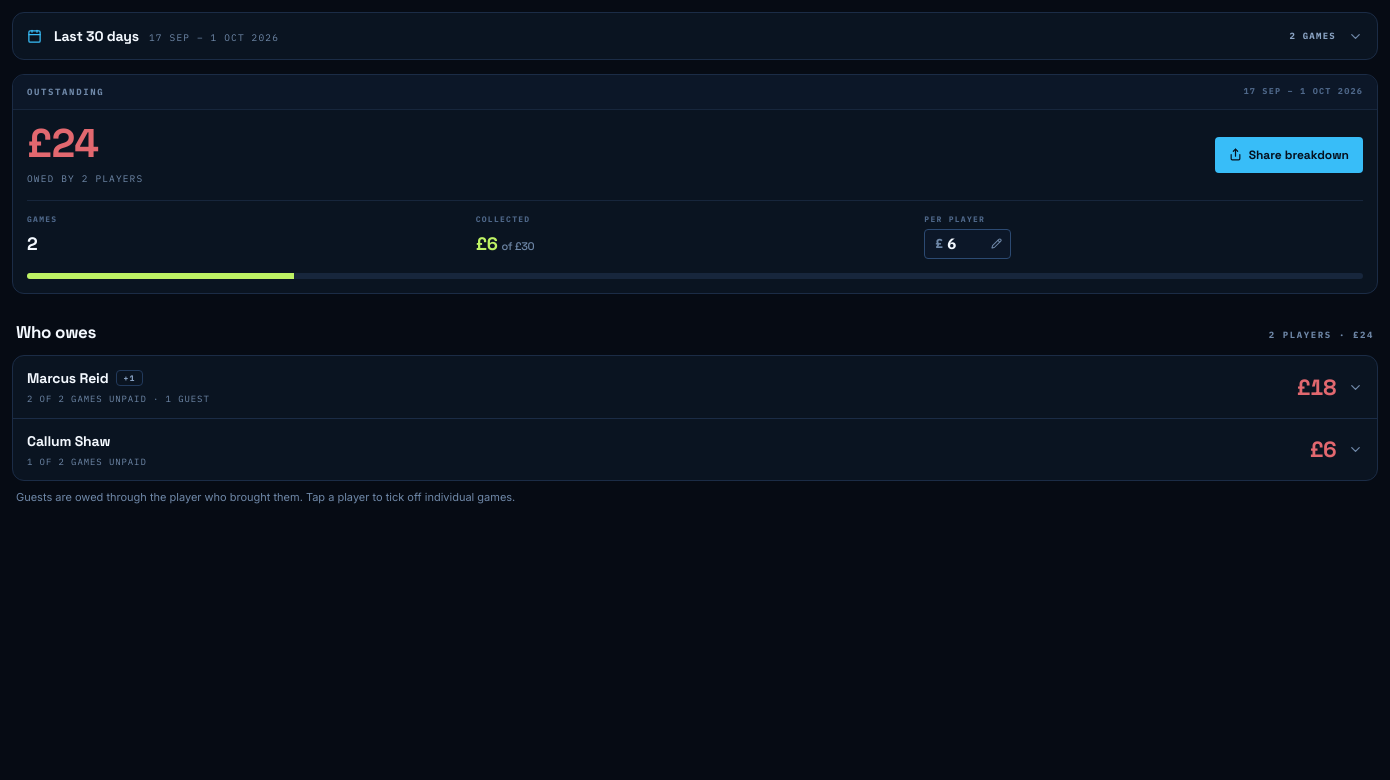
Test case: AdminMoneyView › reverts a failed save and says so
Click the text "Callum Shaw" at (69, 441), box [27, 431, 110, 451]
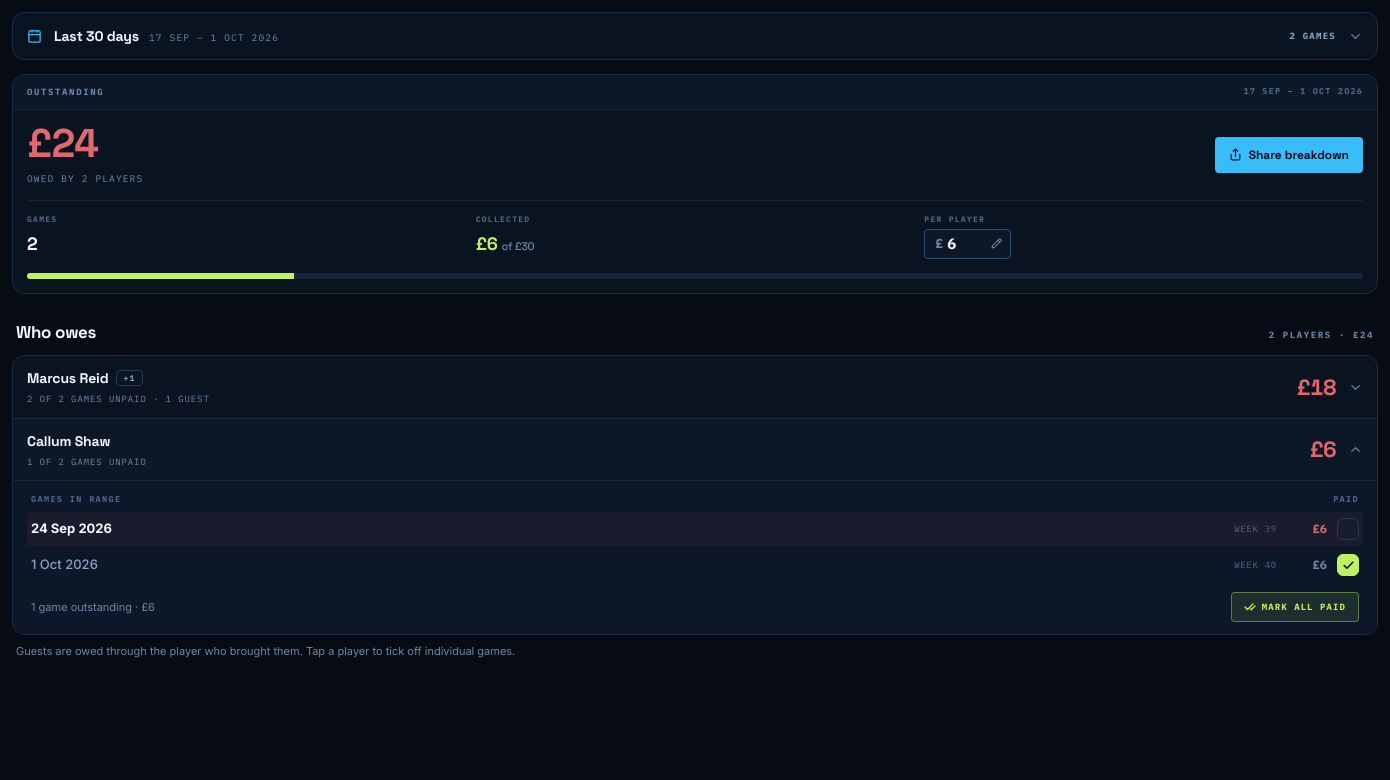
Click the checkbox named "24 Sep 2026, £6, unpaid" at (71, 528), box [27, 512, 1363, 546]
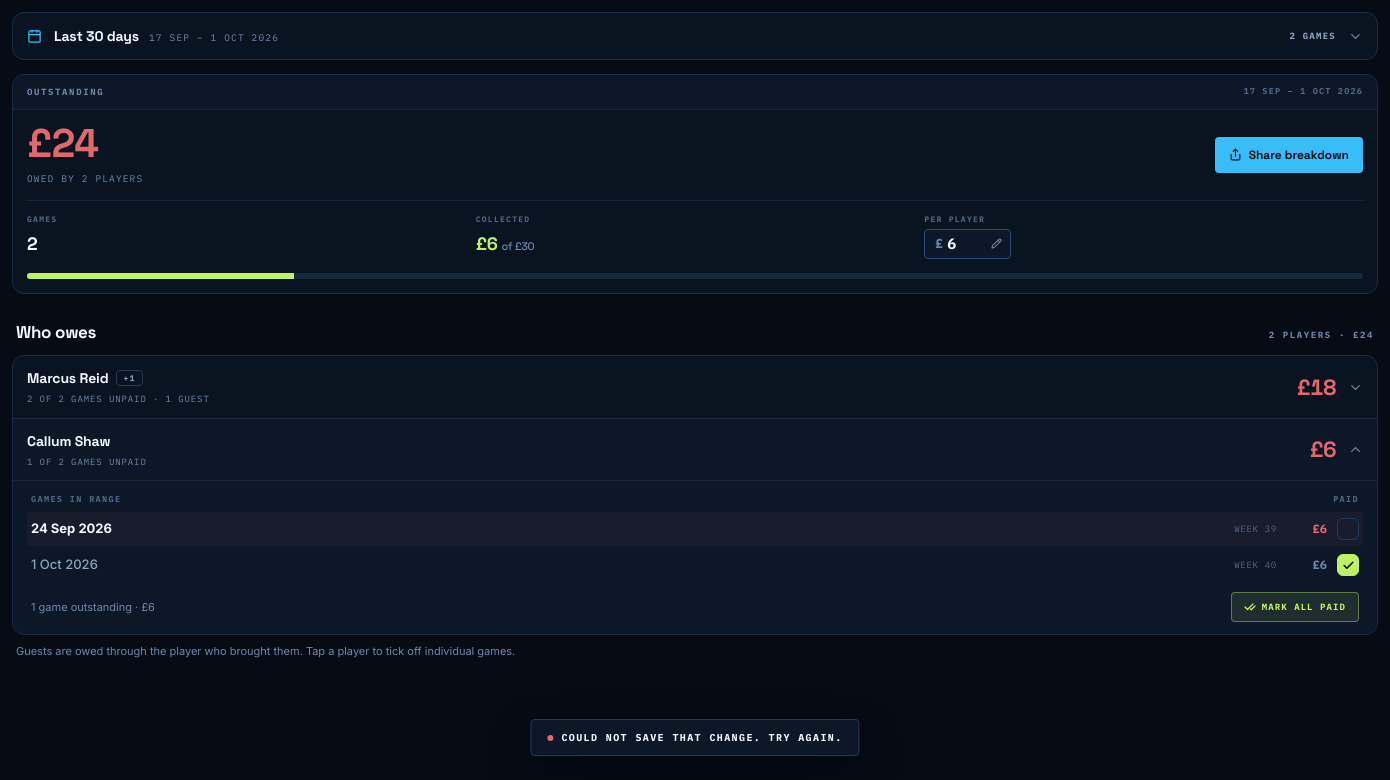
Expected: the text "Callum Shaw" is shown, [27, 431, 110, 451]
Now the message reads "Could not save that change. Try again.", box [561, 731, 843, 744]
